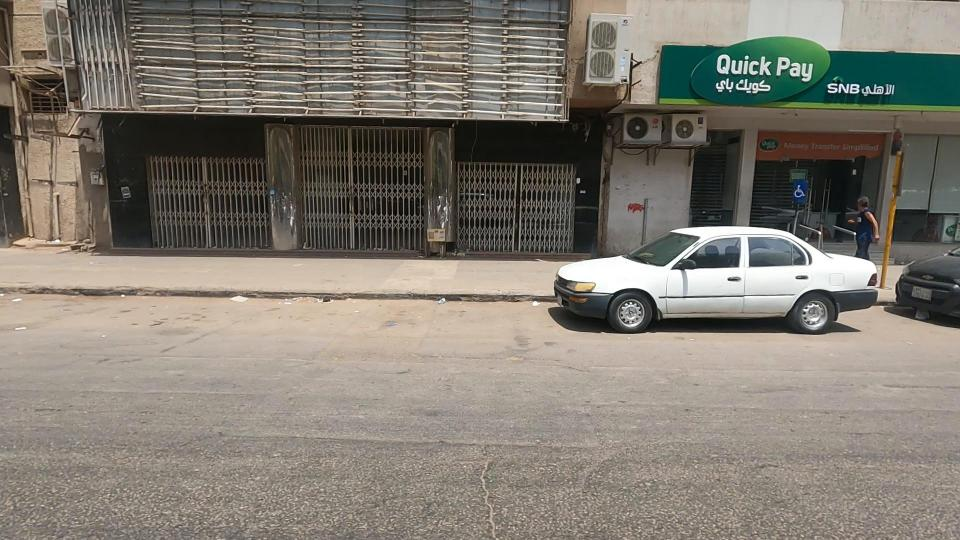BAD_BILLBOARD: (0, 0, 809, 173)
